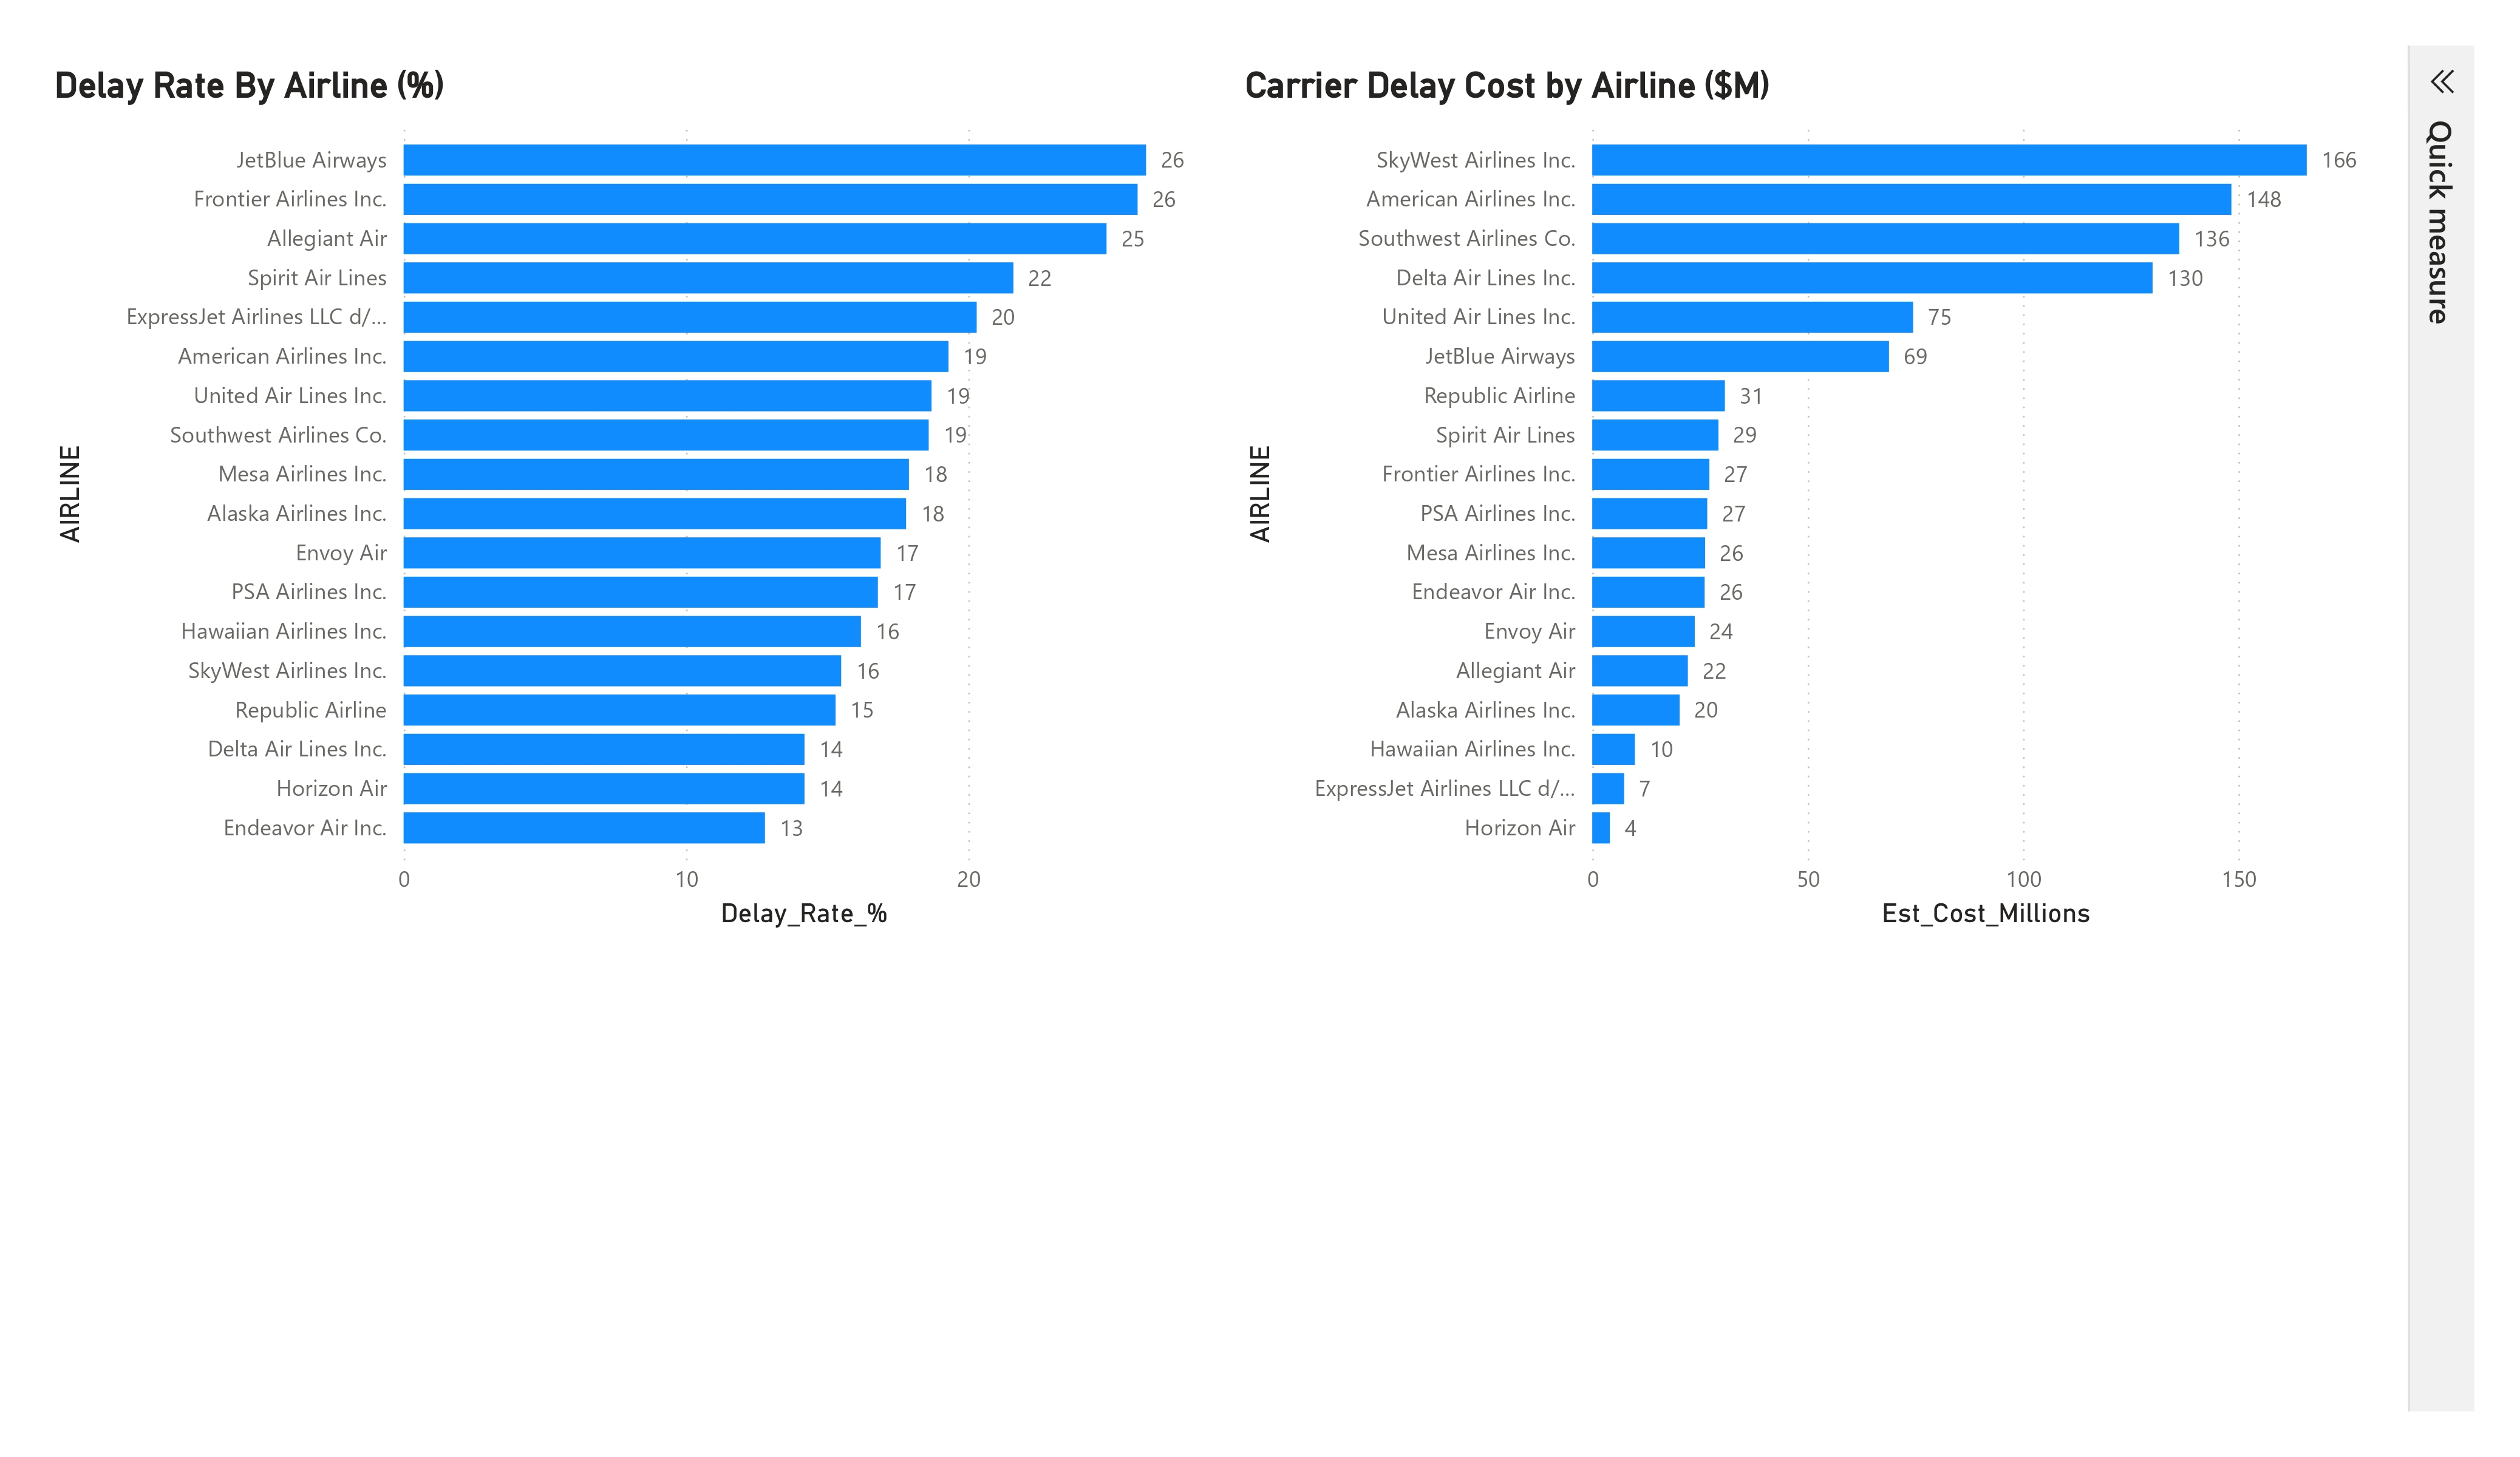

This screenshot's page, from the dashboard's own definition file:
{"tool":"powerbi","page":{"name":"Airlines","canvas":[1280,720],"ordinal":1},"visuals":[{"type":"clusteredBarChart","title":"Delay Rate By Airline (%)","fields":{"Category":["airline_summary.AIRLINE"],"Y":["Avg(airline_summary.Delay_Rate_%)"]},"box":[0,0,640.2,473.2],"z":0},{"type":"clusteredBarChart","title":"Carrier Delay Cost by Airline ($M)","fields":{"Category":["airline_summary.AIRLINE"],"Y":["Sum(airline_summary.Est_Cost_Millions)"]},"box":[644.5,0,635.3,473.2],"z":1}]}

Visuals, with their boxes on the page's 1280x720 design canvas (x1, y1, x2, y2). These are canvas units, not pixel positions in the 2520x1457 screenshot, which may show the page scaled, cropped or inside an application window:
"Delay Rate By Airline (%)" clusteredBarChart: pyautogui.locateOnScreen(0, 0, 640, 473)
"Carrier Delay Cost by Airline ($M)" clusteredBarChart: pyautogui.locateOnScreen(644, 0, 1280, 473)
